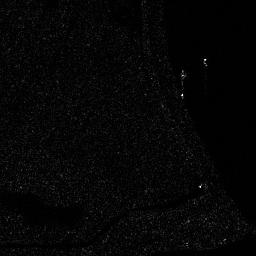ship: (179, 68, 186, 101)
